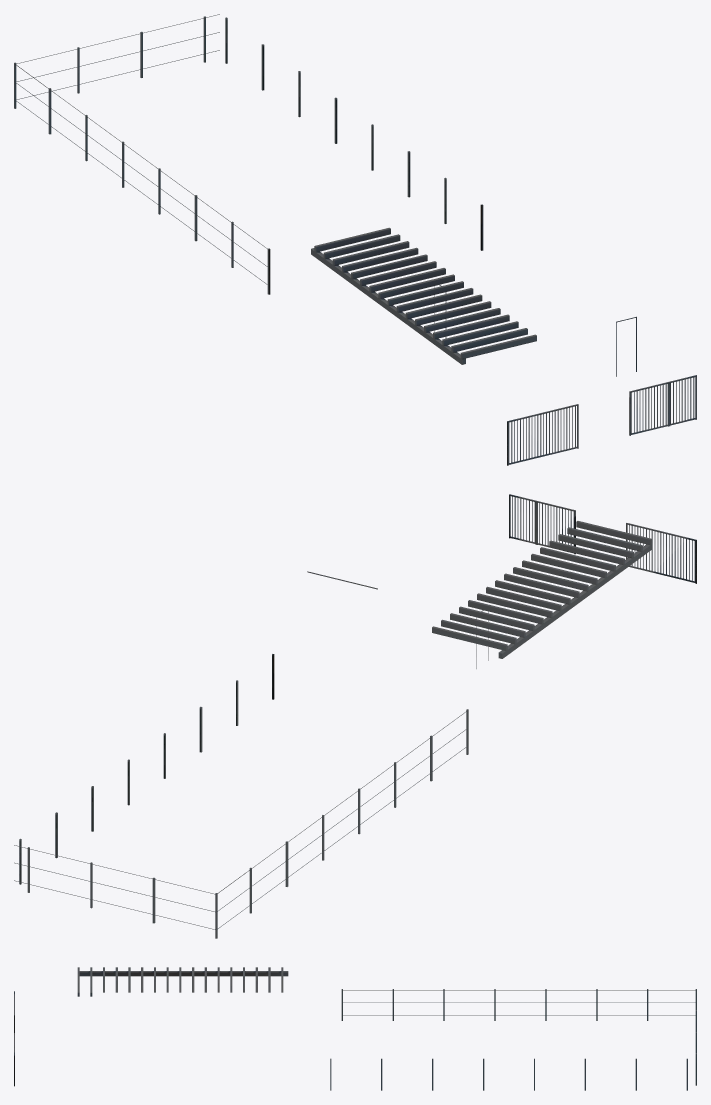
File: exterior_det.glb
3 renders of one model, top to bottom at view 1: azimuth 30°, elevation 25°; view 2: azimuth 150°, elevation 25°; view 3: azimuth 270°, elevation 25°, orthographic. The views are drawn at different scales.
Parts seen in each view (by area): view 1: B_Exterior_Det; view 2: B_Exterior_Det; view 3: B_Exterior_Det.
Part boxes in pixels (<box>): B_Exterior_Det: <box>14,14,696,465</box>; B_Exterior_Det: <box>14,494,696,938</box>; B_Exterior_Det: <box>14,967,696,1090</box>.
Bounding box in the file's own units: 7.83 × 3.92 × 32.2.
3 materials, 3 textured.
